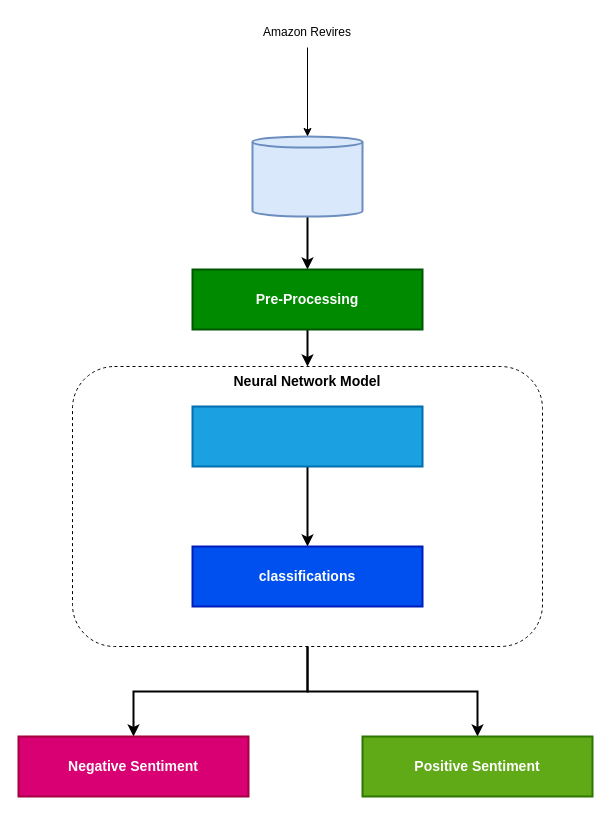
The diagram is 610 pixels wide and 814 high, and some of its shapes have lost their labels. Each missing label, with the centre of its shape:
"Pyspark Engine" belongs at (x=307, y=176).
"word embeddings" belongs at (x=307, y=436).
